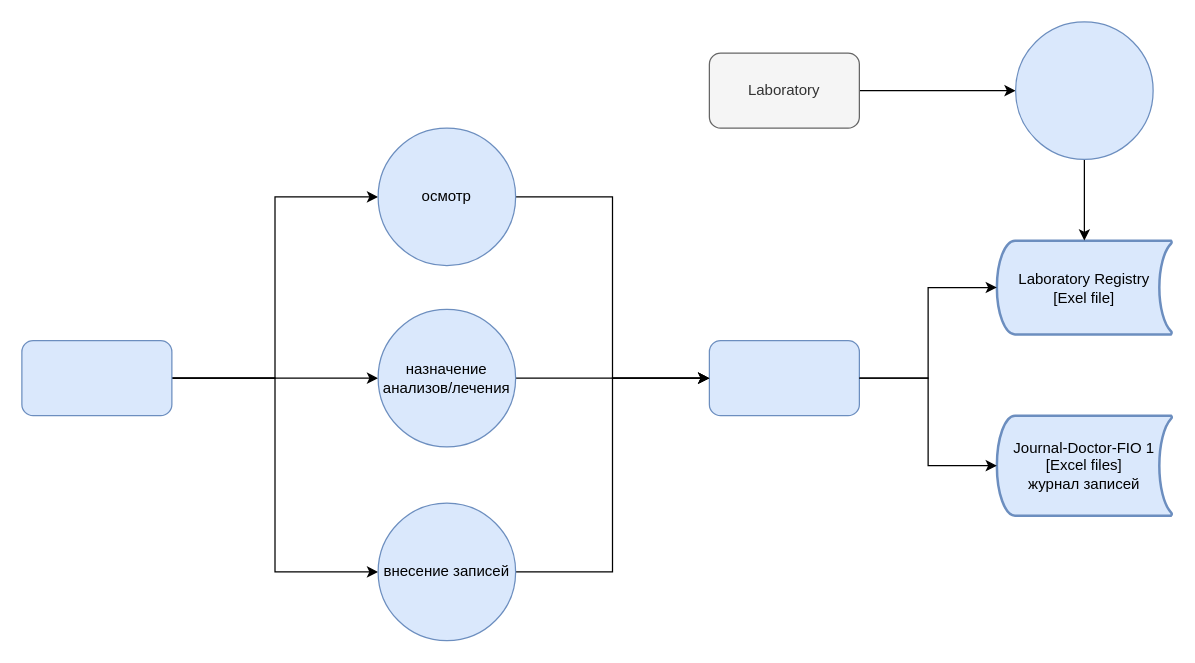
Some shapes in this 1195 by 663 pixel diagram are drawn without their labels. Each missing label, with the centre of its shape:
"Doctor" goes at (783,377).
"Patient" goes at (96,377).
"формирование заключения" goes at (1083,90).
